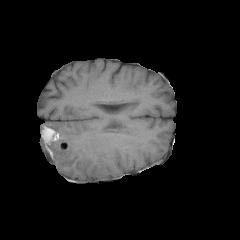glioma: (40, 124, 121, 177)
